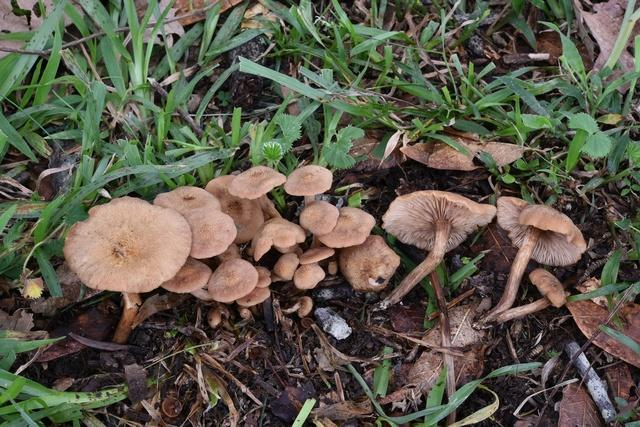edible_mushroom: (62, 158, 385, 343), (476, 195, 587, 329), (377, 188, 496, 310)
